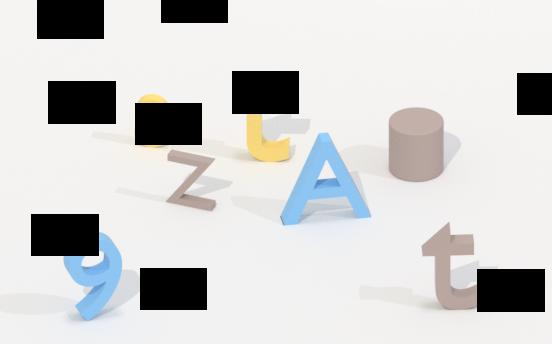8: (131, 93, 175, 151)
9: (62, 232, 126, 324)
A-hoa: (267, 132, 381, 229)
t: (421, 220, 480, 314), (232, 73, 291, 165)
tru: (386, 106, 447, 186)
z: (164, 147, 222, 212)
